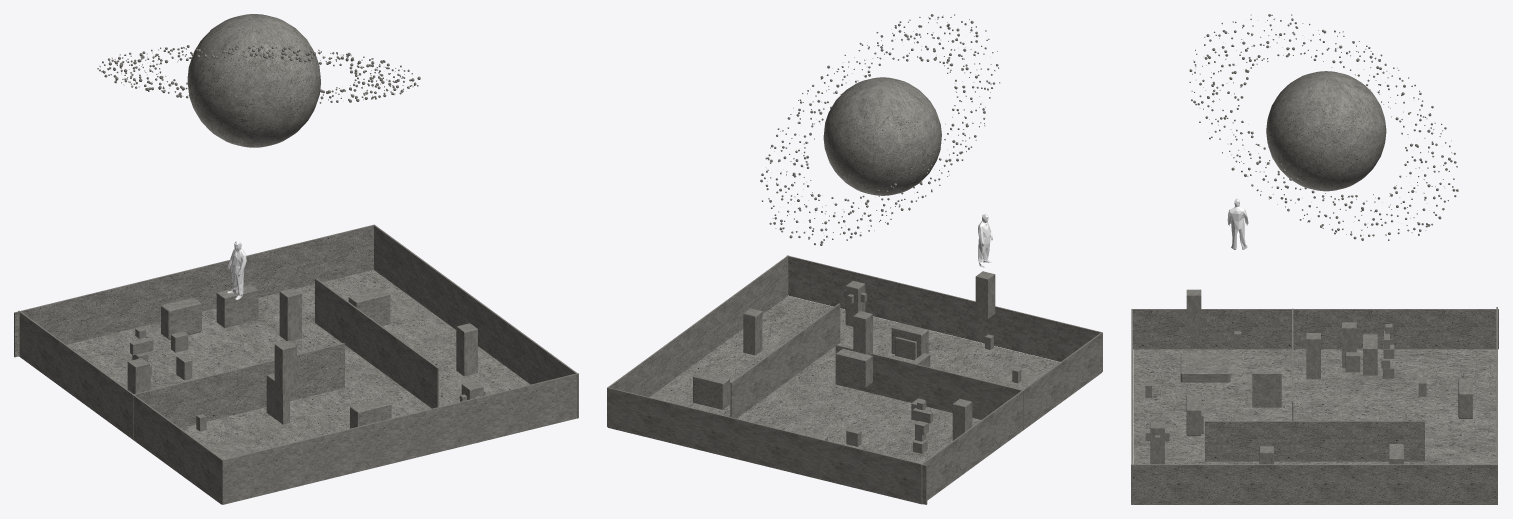
Rendered from warring.glb.
The picture shows the model from 3 angles, left to right: view 1: azimuth 30°, elevation 25°; view 2: azimuth 150°, elevation 25°; view 3: azimuth 270°, elevation 25°; orthographic projection. The views are drawn at different scales.
Visible parts, largest first — view 1: pavimento.002, palazzo_1.002, Sphere, palazzo_2.005, palazzo_2.010, palazzo_2.006, palazzo_2.009, palazzo_2.004, palazzo_2.007, palazzo_2.011, palazzo_1.004, palazzo_1 (+7 smaller); view 2: pavimento.002, palazzo_2.005, Sphere, palazzo_1.002, palazzo_2.010, palazzo_2.006, palazzo_2.009, palazzo_2.004, palazzo_2.007, palazzo_2, palazzo_1, palazzo_1.003 (+7 smaller); view 3: pavimento.002, palazzo_2.006, palazzo_2.010, Sphere, palazzo_2.004, palazzo_1.013, palazzo_2.008, palazzo_1, palazzo_1.004, 223_person__0.001, palazzo_2.003, palazzo_2.007 (+4 smaller).
Boxes of the visible parts, x1,y1,x2,y2 form: pavimento.002: [19, 270, 530, 504]; palazzo_1.002: [222, 373, 578, 504]; Sphere: [187, 14, 320, 147]; palazzo_2.005: [14, 224, 374, 357]; palazzo_2.010: [18, 310, 222, 504]; palazzo_2.006: [374, 225, 578, 418]; palazzo_2.009: [132, 343, 344, 439]; palazzo_2.004: [315, 278, 438, 408]; palazzo_2.007: [216, 284, 258, 327]; palazzo_2.011: [161, 297, 201, 339]; palazzo_1.004: [279, 288, 301, 341]; palazzo_1: [274, 340, 296, 394]; pavimento.002: [608, 296, 1101, 504]; palazzo_2.005: [607, 387, 927, 504]; Sphere: [823, 77, 941, 195]; palazzo_1.002: [787, 255, 1102, 371]; palazzo_2.010: [920, 332, 1102, 504]; palazzo_2.006: [607, 255, 788, 397]; palazzo_2.009: [835, 344, 1024, 430]; palazzo_2.004: [730, 303, 840, 418]; palazzo_2.007: [835, 348, 872, 387]; palazzo_2: [693, 371, 729, 409]; palazzo_1: [975, 271, 995, 318]; palazzo_1.003: [743, 308, 762, 355]; pavimento.002: [1133, 349, 1497, 504]; palazzo_2.006: [1131, 464, 1497, 504]; palazzo_2.010: [1133, 309, 1498, 349]; Sphere: [1266, 71, 1386, 191]; palazzo_2.004: [1205, 421, 1424, 461]; palazzo_1.013: [1180, 353, 1230, 382]; palazzo_2.008: [1252, 371, 1281, 407]; palazzo_1: [1186, 289, 1201, 335]; palazzo_1.004: [1306, 333, 1320, 379]; 223_person__0.001: [1227, 198, 1248, 249]; palazzo_2.003: [1186, 395, 1201, 435]; palazzo_2.007: [1363, 334, 1377, 375].
Size of the model in its own units: 511 by 545 by 502.
Materials: 3 (2 with a texture image).
